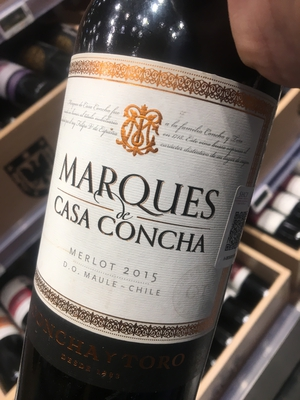marques de casa concha merlot: (29, 14, 275, 400)
